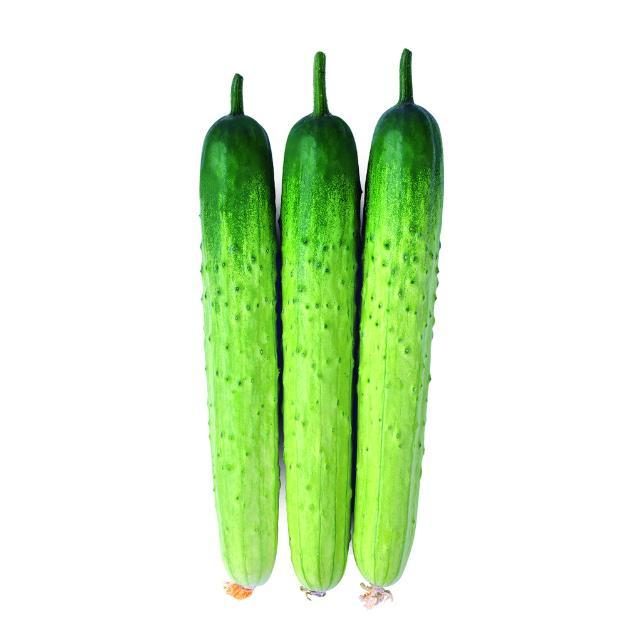cucumber: (209, 19, 436, 612)
